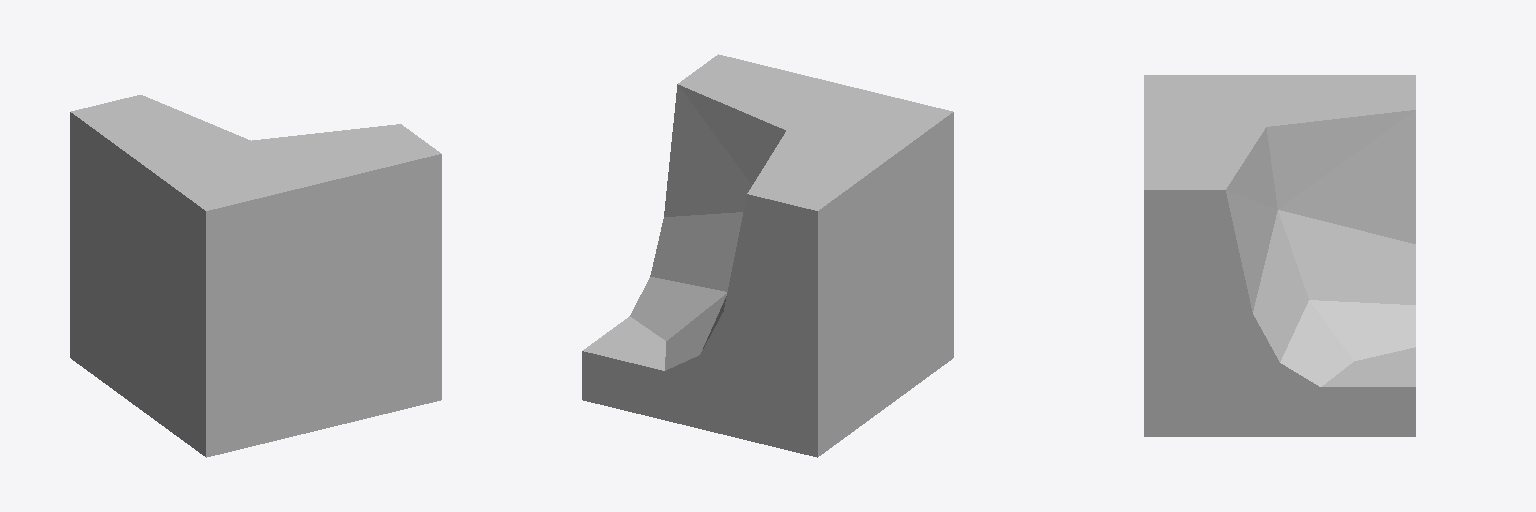
Rendered from Cliff_Base_Corner_Inner_Sm.obj.
The picture shows the model from 3 angles: view 1: azimuth 30°, elevation 25°; view 2: azimuth 150°, elevation 25°; view 3: azimuth 270°, elevation 25°; orthographic projection.
Parts seen in each view (by area): view 1: object1; view 2: object1; view 3: object1.
Boxes of the visible parts, <box> form: object1: <box>70,95,441,457</box>; object1: <box>582,54,953,457</box>; object1: <box>1144,75,1415,436</box>.
Bounding box in the file's own units: 1 × 1 × 1.